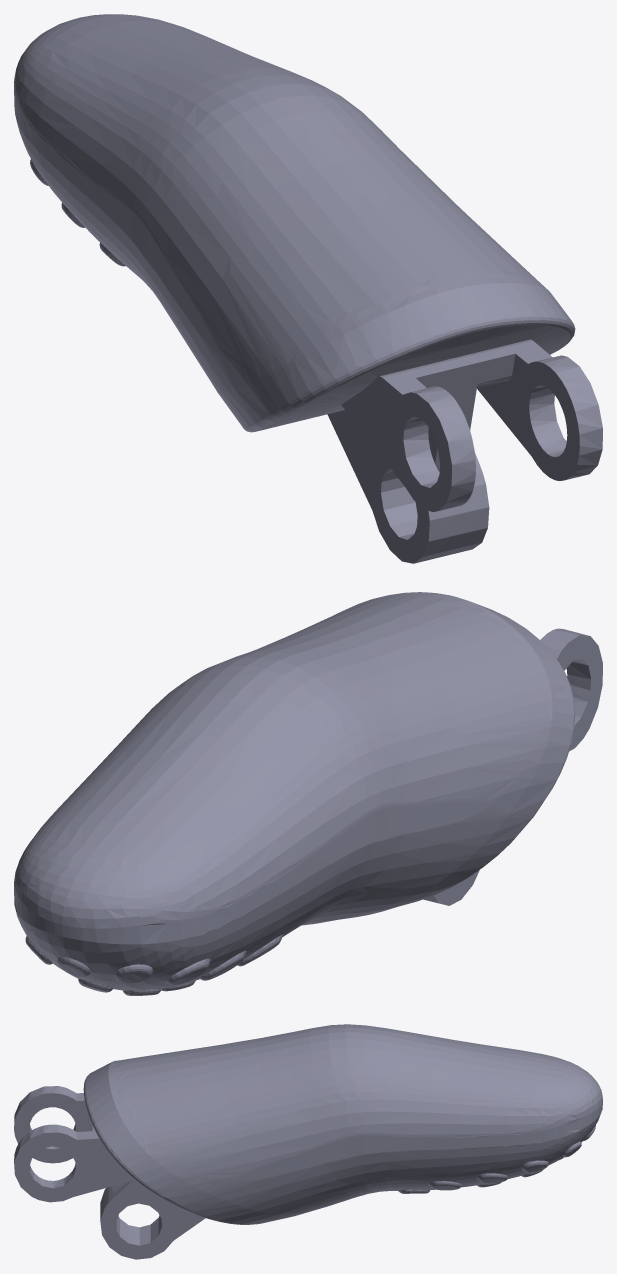
File: hand1_link_5_2_visuals.obj
The picture shows the model from 3 angles, top to bottom: view 1: azimuth 30°, elevation 25°; view 2: azimuth 150°, elevation 25°; view 3: azimuth 270°, elevation 25°; orthographic projection. The views are drawn at different scales.
Bounding box in the file's own units: 0.0134 × 0.0155 × 0.0379.
